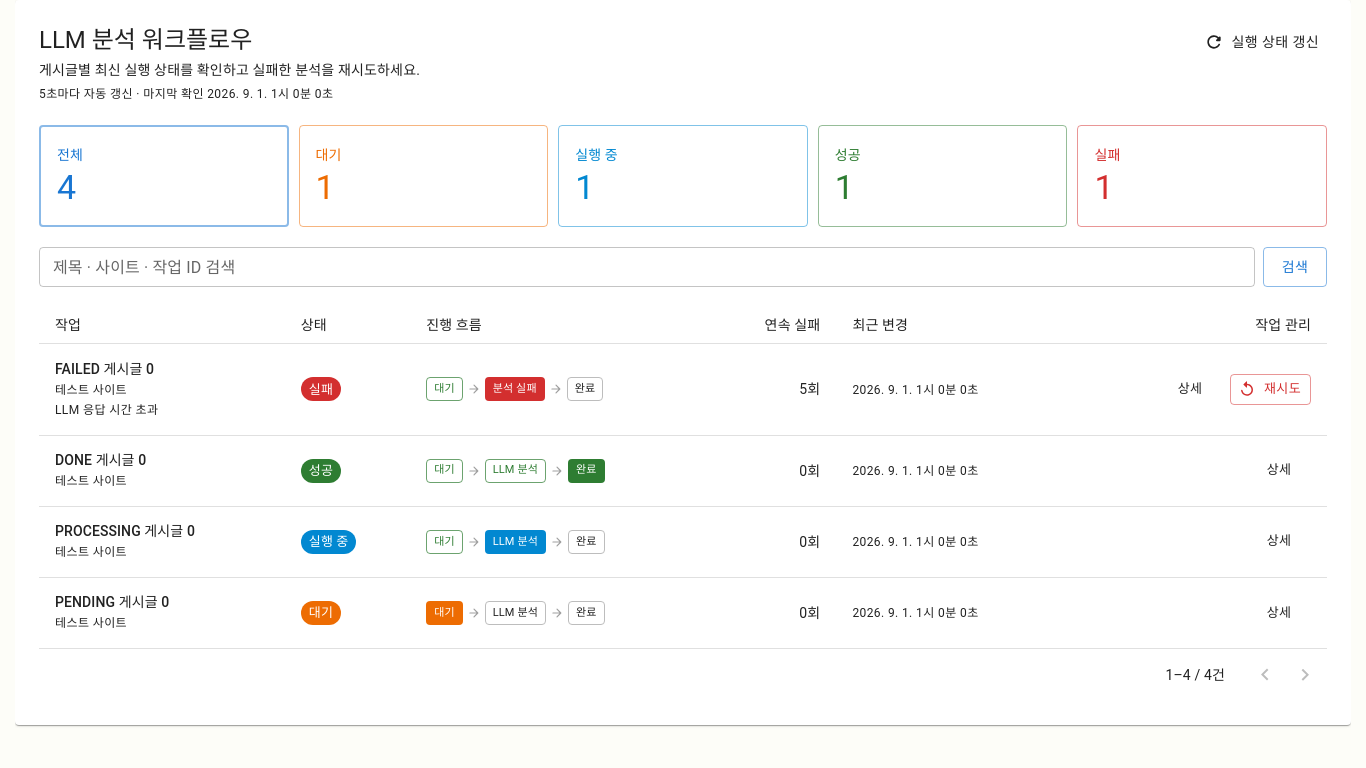
it: keeps failed state and displays the API error when retry is rejected
The width and height of the screenshot is (1366, 768).
Click the button with aria-label "failed 게시글 0 상세 보기" at (1190,390), box left=1158, top=374, right=1222, bottom=405
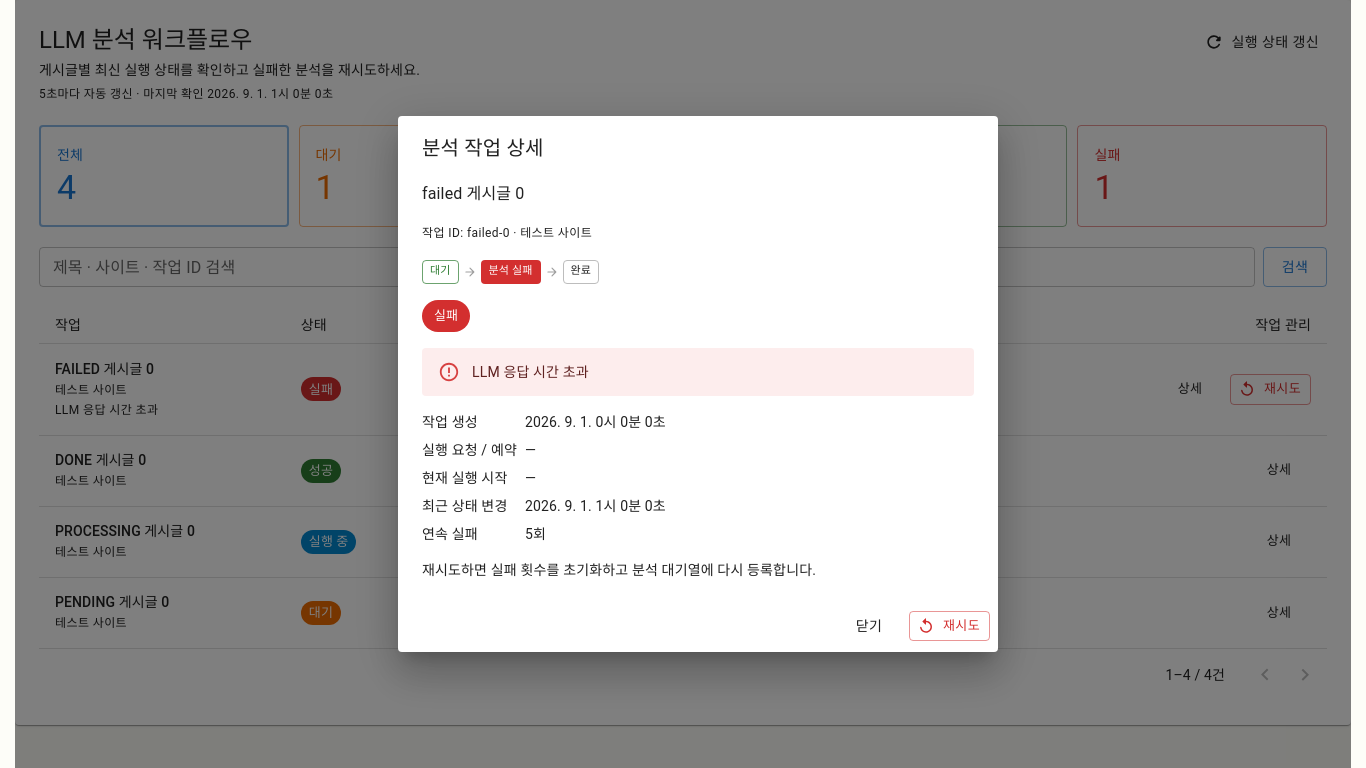
Click the button with aria-label "failed 게시글 0 재시도" at (950,626), box left=909, top=611, right=990, bottom=641
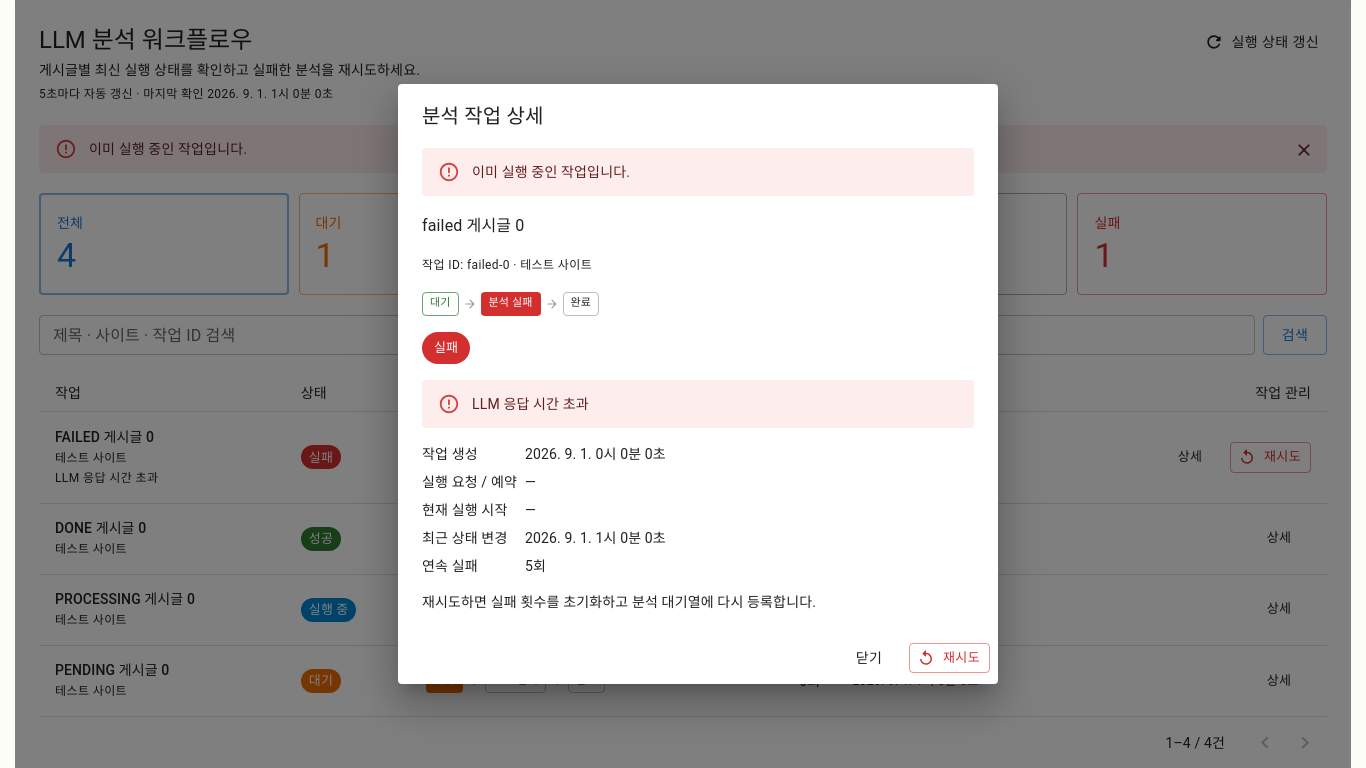
Expected: the text "LLM 응답 시간 초과" is shown, left=472, top=396, right=589, bottom=412
Expected: the text "이미 실행 중인 작업입니다." is shown, left=472, top=164, right=630, bottom=180
